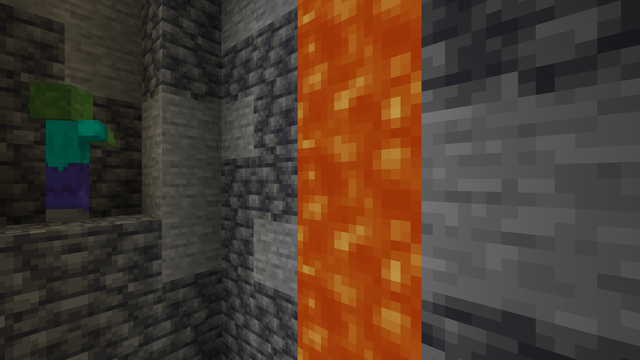zombies: (34, 82, 94, 225)
